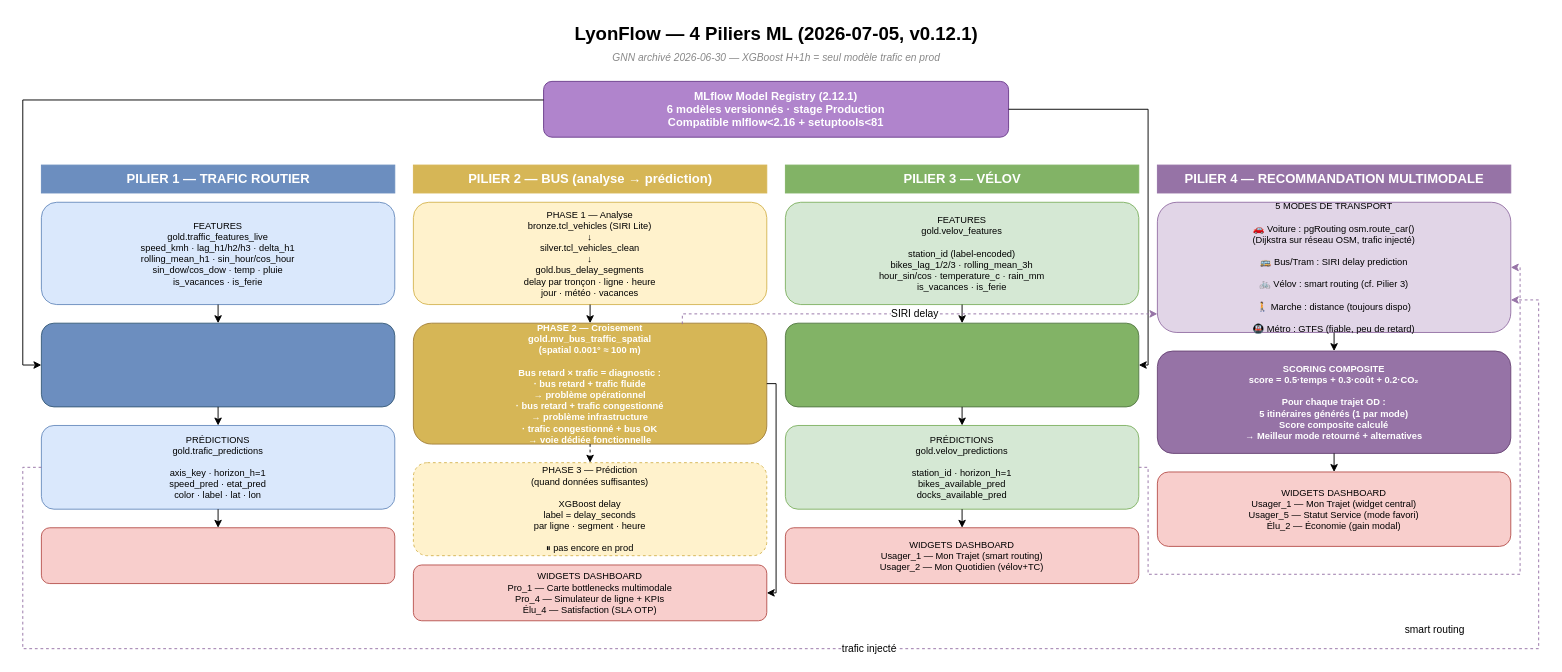
This 1562x672 diagram has some shape labels left out. The shapes that lost their labels are listed below. From the top down, each one's centre as x and y in pixels, then its label:
At [217,364]: "XGBoost H+1h (seul modèle trafic) retrain */30min dag_live_speed_retrain".
At [961,364]: "XGBoost H+1h (économe, label-encoded) retrain hourly :50 dag_inference_velov".
At [217,555]: "WIDGETS DASHBOARD Pro_1 — Carte trafic live vs H+1h Pro_3 — Prédictions par axe".
